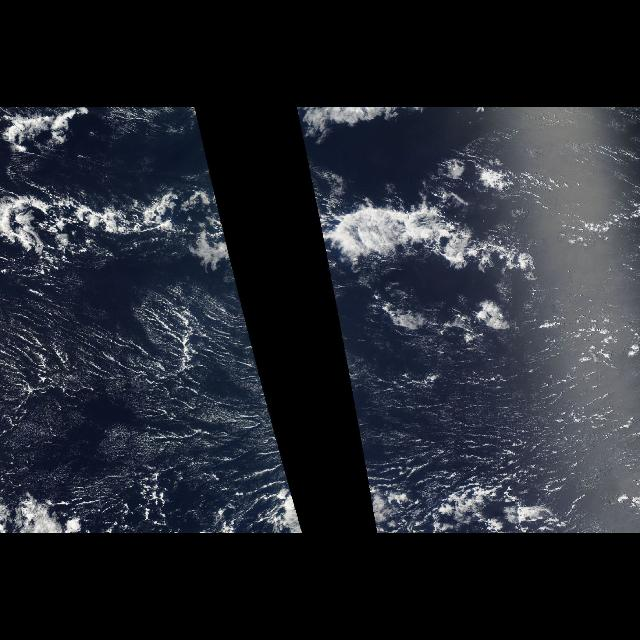Sugar: (9, 281, 288, 469), (355, 330, 633, 474)
